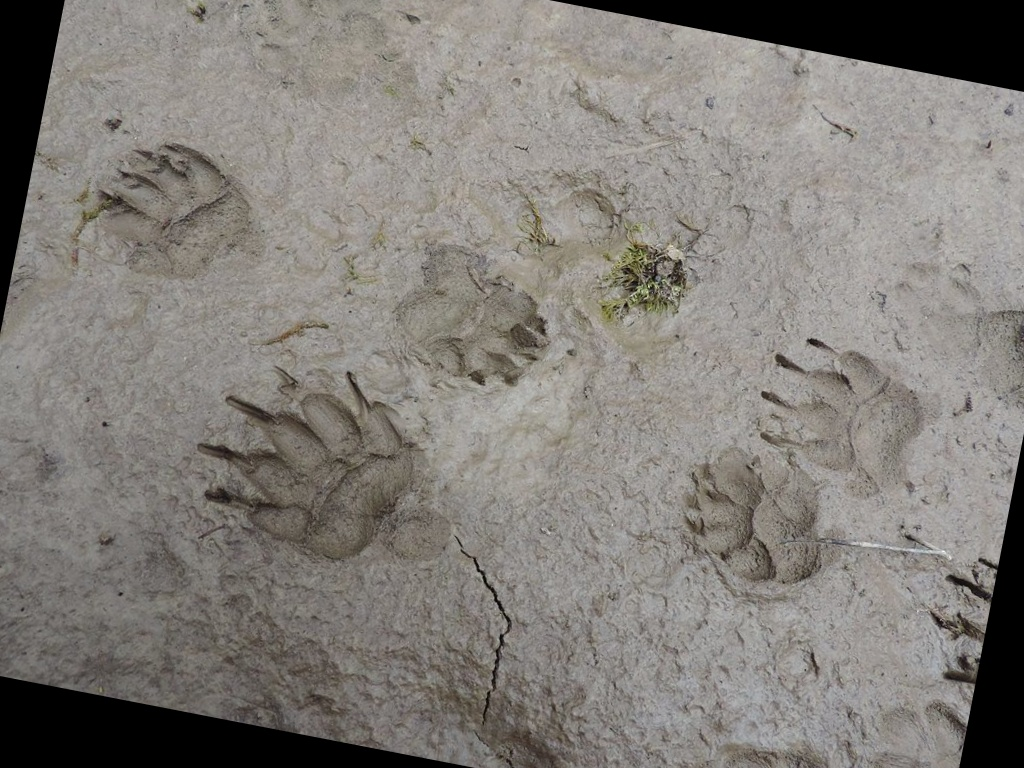beaver: (151, 338, 497, 627), (39, 116, 309, 323), (352, 226, 612, 438), (635, 429, 878, 647), (732, 329, 963, 538)
